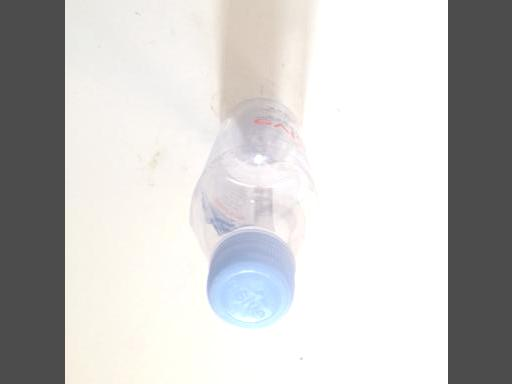bottle: (172, 88, 340, 342)
